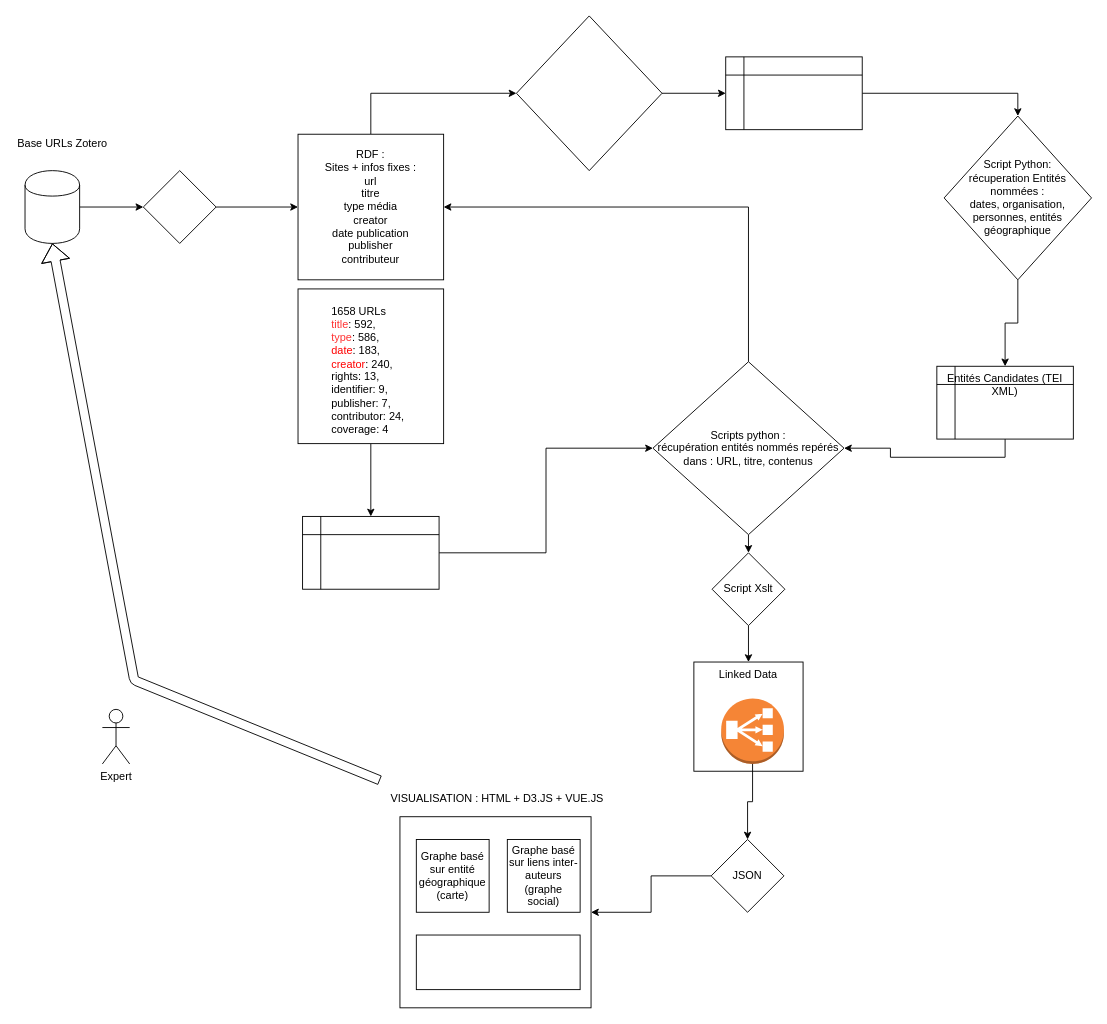
Some shapes in this 1107 by 1024 pixel diagram are drawn without their labels. The shapes that lost their labels are listed below. From the top down, each one's centre as x and y in pixels, then its label:
At (589,93): "Script Python: récuperation contenu blog".
At (793,93): "Blog content files (TEI XML)".
At (179,206): "Script Xlst".
At (370,552): "Author (TEI XML)".
At (497,962): "Acces aux url via filtrages des précédants graphiques".
